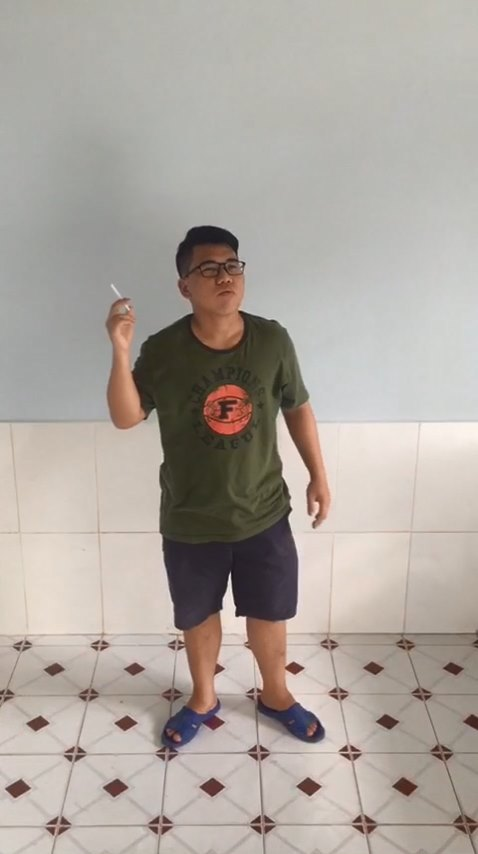cigarette: (107, 281, 134, 315)
person: (82, 205, 354, 773)
